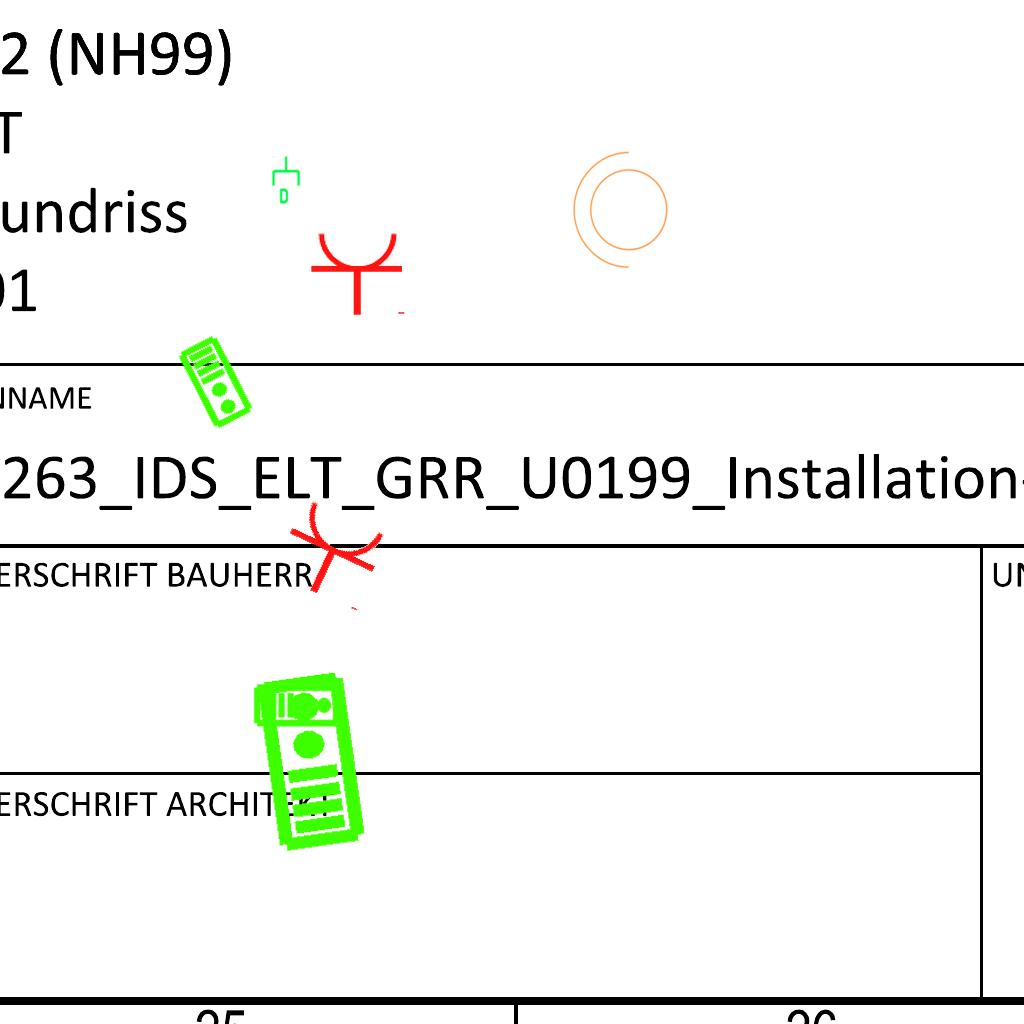Datenanschluss_einfach: (270, 155, 304, 205)
Gegensprechanlage_mit_Video: (250, 667, 369, 855), (175, 332, 258, 432), (253, 681, 341, 728)
Scheinwerfer_fuer_Alarmbeleuchtung: (568, 147, 680, 279)
Schukosteckdose_einfach: (268, 494, 397, 616), (309, 230, 409, 317)
